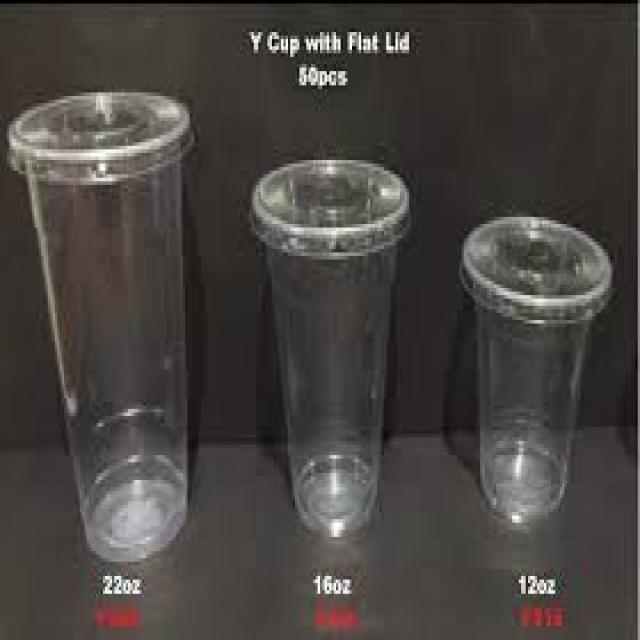plastic: (9, 91, 191, 563), (251, 163, 409, 536), (460, 218, 612, 520)
